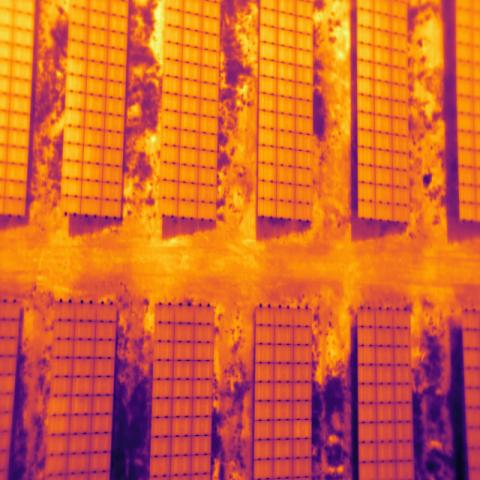fault: (292, 418, 313, 441)
